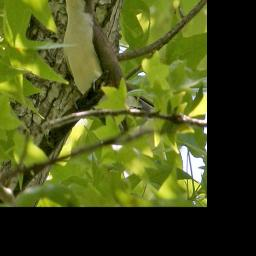Cuckoo: (48, 0, 155, 133)
